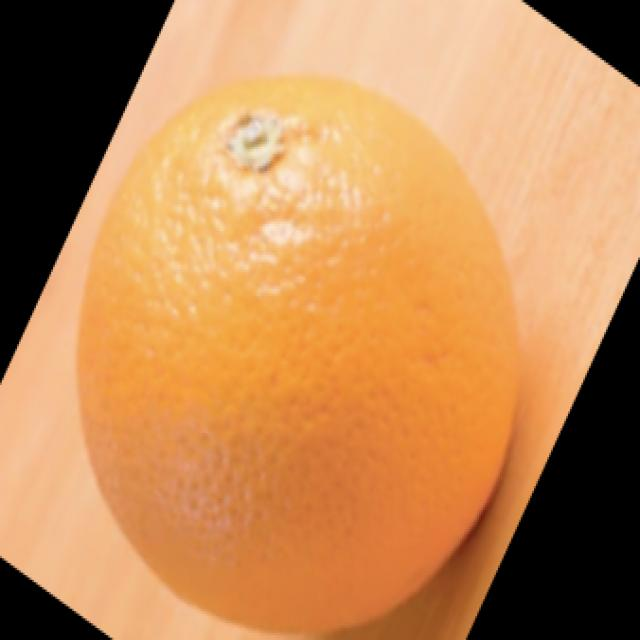fresh: (70, 62, 528, 640)
